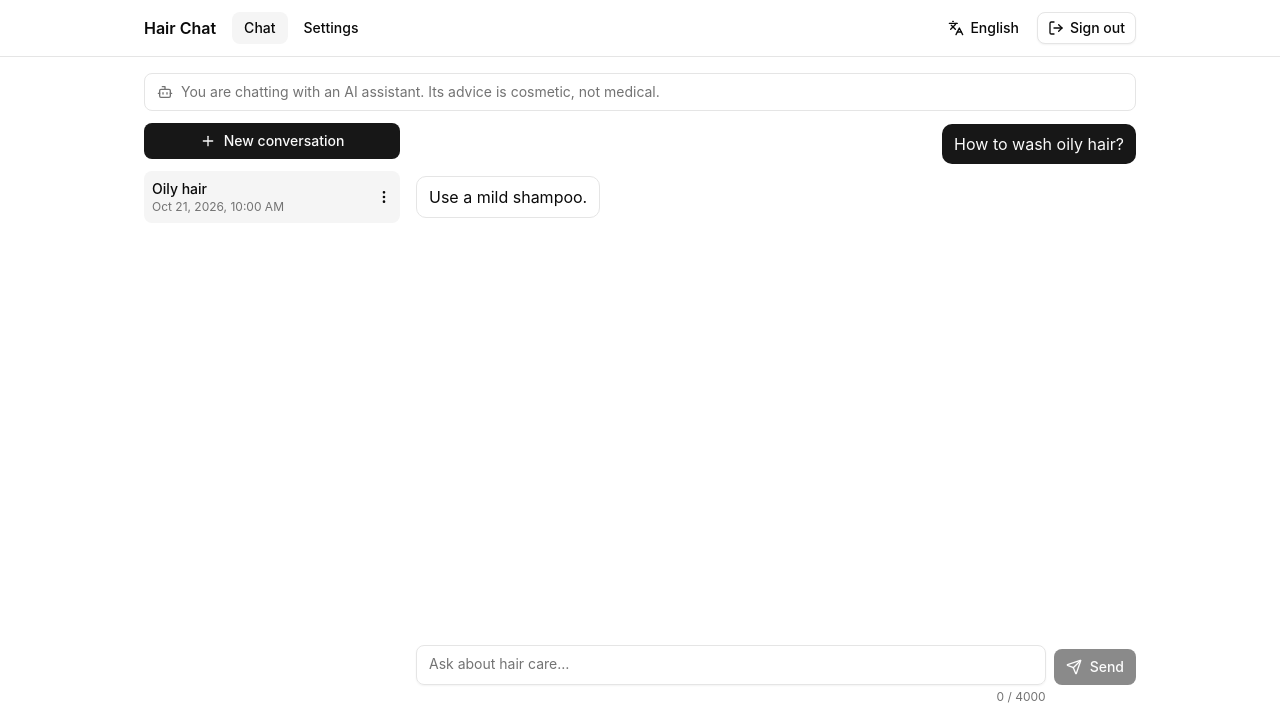
it: sending a message › treats a stream that ends without done as a network error
This screenshot has width=1280, height=720.
Expected: the text "Use a mild shampoo." is shown, [429,185,587,209]
Type "Hello" into the text box named "Message" at (731, 665), box [416,645,1046,685]
Then press Enter
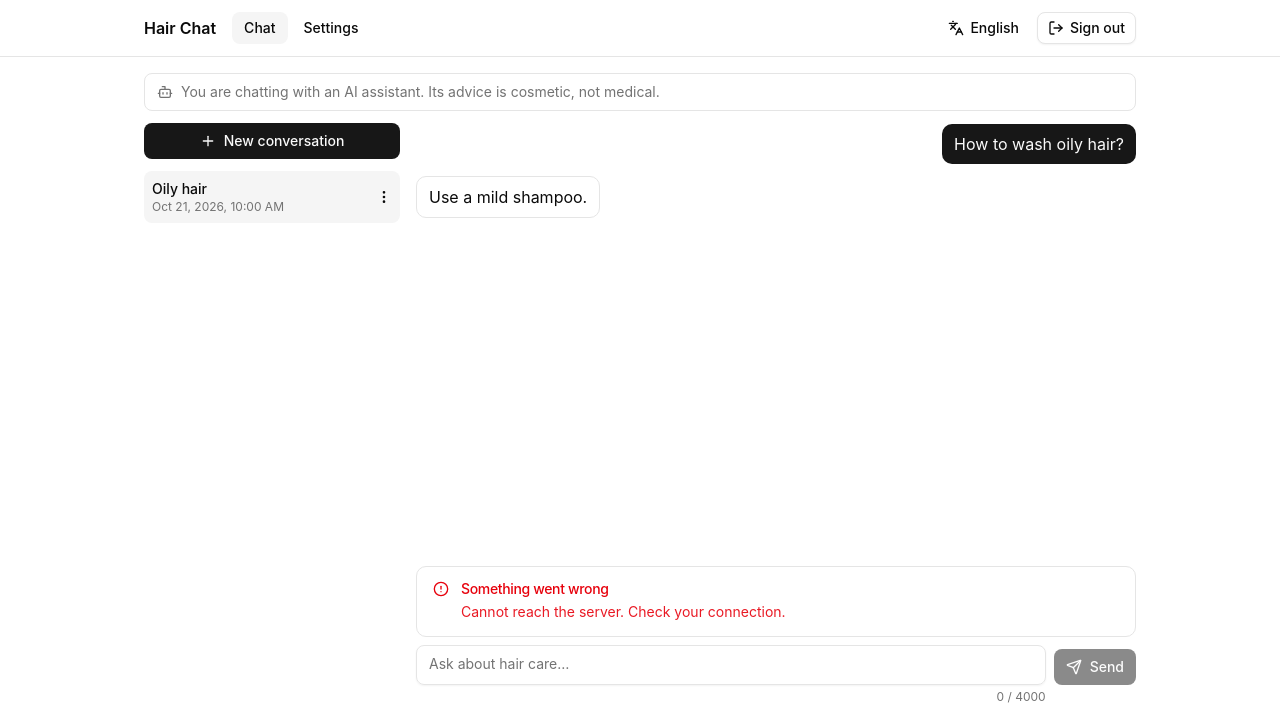
Result: the text "Cannot reach the server. Check your connection." is shown at [461,601,786,624]
